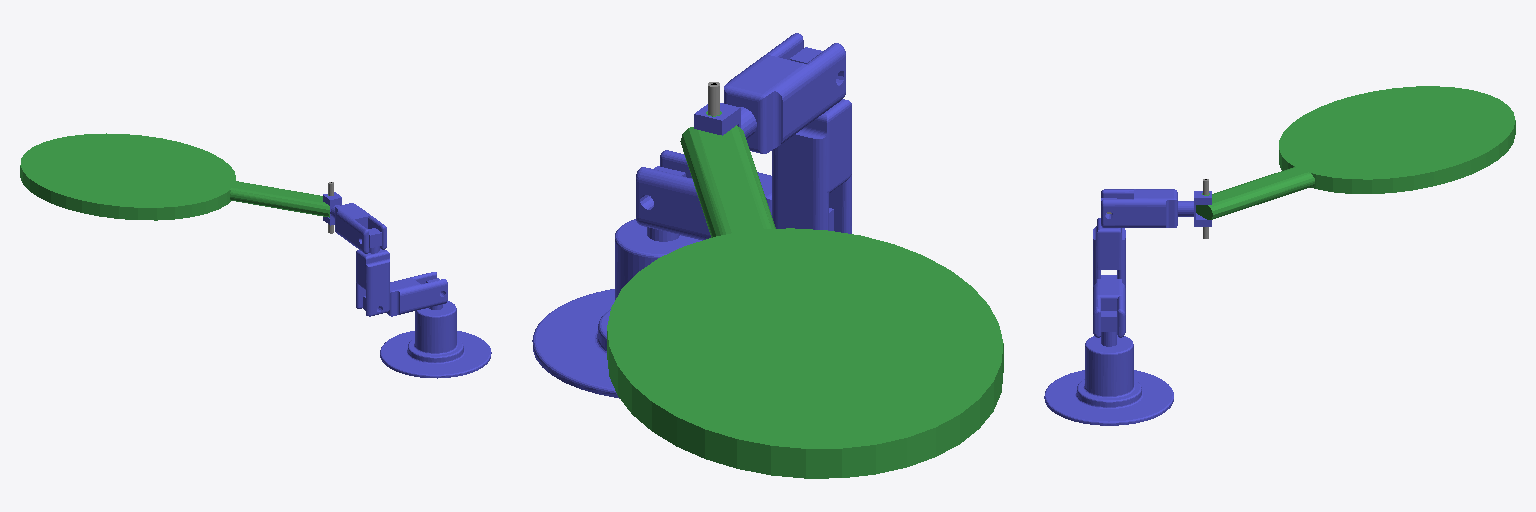
--- Facts derived from the render (not from the file) ---
The picture shows the robot from 3 angles, left to right: view 1: azimuth 30°, elevation 25°; view 2: azimuth 150°, elevation 25°; view 3: azimuth 270°, elevation 25°; orthographic projection.
Robot: eight_arm_quasistatic — 27 links, 26 joints (8 continuous, 18 fixed); root link world; default pose: all joints at 0.
Links seen in each view (by area): view 1: tennis_racket, base_link, second_link, first_link, third_link; view 2: tennis_racket, base_link, second_link, third_link, first_link, tennis_pin; view 3: tennis_racket, base_link, third_link, second_link, first_link, tennis_pin, base_pin.
Boxes of the visible links, x1,y1,x2,y2 form: tennis_racket: (20, 133, 329, 220); base_link: (380, 301, 491, 378); second_link: (356, 249, 389, 316); first_link: (387, 272, 447, 316); third_link: (335, 203, 386, 253); tennis_racket: (607, 111, 1003, 478); base_link: (532, 219, 701, 398); second_link: (772, 99, 851, 233); third_link: (724, 33, 845, 153); first_link: (636, 150, 771, 240); tennis_pin: (694, 103, 756, 138); tennis_racket: (1196, 86, 1515, 219); base_link: (1044, 335, 1173, 425); third_link: (1101, 189, 1177, 227); second_link: (1093, 218, 1125, 287); first_link: (1093, 279, 1125, 337); tennis_pin: (1178, 191, 1211, 226); base_pin: (1101, 311, 1116, 346).
Size in the robot's own frame: 0.6614 by 0.7378 by 0.3159 metres.
Meshes: 9 distinct files referenced, 9 mesh visuals loaded (9 binary STL).

robot.urdf — eight_arm_quasistatic:
<?xml version="1.0" encoding="utf-8"?>
<!-- This URDF was automatically created by SolidWorks to URDF Exporter! Originally created by Stephen Brawner ([email redacted])
     Commit Version: 1.6.0-4-g7f85cfe  Build Version: 1.6.7995.38578
     For more information, please see http://wiki.ros.org/sw_urdf_exporter -->
<robot
  name="eight_arm_quasistatic">


  <link name="world"/>

  <joint name="worldfixed" type="fixed">
    <parent link="world"/>
    <child  link="base_link"/>
    <origin xyz="0 0 0" rpy="0 0 0"/>
  </joint>

  <link
    name="base_link">
    <inertial>
      <origin
        xyz="7.01981621351124E-19 7.30091750501839E-18 0.0322476251952913"
        rpy="0 0 0" />
      <mass
        value="0.642659334578088" />
      <inertia
        ixx="0.00128323309798019"
        ixy="-5.79102308821978E-20"
        ixz="-1.24304284116364E-22"
        iyy="0.00128323309798019"
        iyz="9.24581334581879E-20"
        izz="0.0014380231118093" />
    </inertial>
    <visual>
      <origin
        xyz="0 0 0"
        rpy="0 0 0" />
      <geometry>
        <mesh
          filename="package://tennisbot/meshes/base_link.STL" />
      </geometry>
      <material
        name="">
        <color
          rgba="0.388235294117647 0.4 0.858823529411765 0.3" />
      </material>
    </visual>
    <collision>
      <origin
        xyz="0 0 0"
        rpy="0 0 0" />
      <geometry>
        <mesh
          filename="package://tennisbot/meshes/base_link.STL" />
      </geometry>
    </collision>
  </link>
  <link
    name="base_pin">
    <inertial>
      <origin
        xyz="-2.37440803027089E-15 0.0382952489796256 2.70140680659771E-16"
        rpy="0 0 0" />
      <mass
        value="0.0389102114458838" />
      <inertia
        ixx="2.07768422807742E-05"
        ixy="-6.89483633050152E-22"
        ixz="-8.37747101928375E-23"
        iyy="3.6324844996756E-06"
        iyz="2.21684945430942E-21"
        izz="2.09173954351496E-05" />
    </inertial>
    <visual>
      <origin
        xyz="0 0 0"
        rpy="0 0 0" />
      <geometry>
        <mesh
          filename="package://tennisbot/meshes/base_pin.STL" />
      </geometry>
      <material
        name="">
        <color
          rgba="0.388235294117647 0.4 0.858823529411765 0.3" />
      </material>
    </visual>
    <collision>
      <origin
        xyz="0 0 0"
        rpy="0 0 0" />
      <geometry>
        <mesh
          filename="package://tennisbot/meshes/base_pin.STL" />
      </geometry>
    </collision>
  </link>
  <joint
    name="theta1"
    type="continuous">
    <origin
      xyz="0 0 0.0698499999999998"
      rpy="1.5707963267949 0 0" />
    <parent
      link="base_link" />
    <child
      link="base_pin" />
    <axis
      xyz="0 1 0" />
  </joint>
  <link
    name="first_link">
    <inertial>
      <origin
        xyz="-4.08292269085367E-09 -0.0550901722119836 2.09780265891524E-05"
        rpy="0 0 0" />
      <mass
        value="0.209590237829908" />
      <inertia
        ixx="0.000233815998884336"
        ixy="-6.41201289500509E-11"
        ixz="1.39710741372473E-09"
        iyy="9.29557212780078E-05"
        iyz="-6.93854355170575E-08"
        izz="0.000240744791848488" />
    </inertial>
    <visual>
      <origin
        xyz="0 0 0"
        rpy="0 0 0" />
      <geometry>
        <mesh
          filename="package://tennisbot/meshes/first_link.STL" />
      </geometry>
      <material
        name="">
        <color
          rgba="0.388235294117647 0.4 0.858823529411765 0.3" />
      </material>
    </visual>
    <collision>
      <origin
        xyz="0 0 0"
        rpy="0 0 0" />
      <geometry>
        <mesh
          filename="package://tennisbot/meshes/first_link.STL" />
      </geometry>
    </collision>
  </link>
  <joint
    name="theta2"
    type="continuous">
    <origin
      xyz="0 0.0635 0"
      rpy="1.5707963267949 1.5707963267949 0" />
    <parent
      link="base_pin" />
    <child
      link="first_link" />
    <axis
      xyz="1 0 0" />
  </joint>
  <link
    name="first_pin">
    <inertial>
      <origin
        xyz="0.025545876062429 -2.28292906086932E-15 0"
        rpy="0 0 0" />
      <mass
        value="0.0260398414768073" />
      <inertia
        ixx="2.59455351351942E-06"
        ixy="1.39685737648696E-21"
        ixz="-1.42378986672845E-21"
        iyy="7.10750707409668E-06"
        iyz="-2.42852814127492E-22"
        izz="6.96695391972137E-06" />
    </inertial>
    <visual>
      <origin
        xyz="0 0 0"
        rpy="0 0 0" />
      <geometry>
        <mesh
          filename="package://tennisbot/meshes/first_pin.STL" />
      </geometry>
      <material
        name="">
        <color
          rgba="0.388235294117647 0.4 0.858823529411765 0.3" />
      </material>
    </visual>
    <collision>
      <origin
        xyz="0 0 0"
        rpy="0 0 0" />
      <geometry>
        <mesh
          filename="package://tennisbot/meshes/first_pin.STL" />
      </geometry>
    </collision>
  </link>
  <joint
    name="theta3"
    type="continuous">
    <origin
      xyz="0 -0.094412 0"
      rpy="0 0 -1.5708" />
    <parent
      link="first_link" />
    <child
      link="first_pin" />
    <axis
      xyz="1 0 0" />
  </joint>
  <link
    name="second_link">
    <inertial>
      <origin
        xyz="-4.08292010696858E-09 -0.0550901722119811 2.09780265891801E-05"
        rpy="0 0 0" />
      <mass
        value="0.209590237829908" />
      <inertia
        ixx="0.000233815998884336"
        ixy="-6.41201288853313E-11"
        ixz="1.39710741373865E-09"
        iyy="9.29557212780078E-05"
        iyz="-6.93854355169687E-08"
        izz="0.000240744791848488" />
    </inertial>
    <visual>
      <origin
        xyz="0 0 0"
        rpy="0 0 0" />
      <geometry>
        <mesh
          filename="package://tennisbot/meshes/second_link.STL" />
      </geometry>
      <material
        name="">
        <color
          rgba="0.388235294117647 0.4 0.858823529411765 0.3" />
      </material>
    </visual>
    <collision>
      <origin
        xyz="0 0 0"
        rpy="0 0 0" />
      <geometry>
        <mesh
          filename="package://tennisbot/meshes/second_link.STL" />
      </geometry>
    </collision>
  </link>
  <joint
    name="theta4"
    type="continuous">
    <origin
      xyz="0.0380999999999999 0 0"
      rpy="1.5707963267949 0 -1.5707963267949" />
    <parent
      link="first_pin" />
    <child
      link="second_link" />
    <axis
      xyz="1 0 0" />
  </joint>
  <link
    name="second_pin">
    <inertial>
      <origin
        xyz="0.025545876062429 0 -2.33354162788721E-15"
        rpy="0 0 0" />
      <mass
        value="0.0260398414768073" />
      <inertia
        ixx="2.59455351351943E-06"
        ixy="1.0021604189718E-21"
        ixz="-2.85175925370698E-22"
        iyy="7.10750707409667E-06"
        iyz="5.83761034000549E-23"
        izz="6.96695391972135E-06" />
    </inertial>
    <visual>
      <origin
        xyz="0 0 0"
        rpy="0 0 0" />
      <geometry>
        <mesh
          filename="package://tennisbot/meshes/second_pin.STL" />
      </geometry>
      <material
        name="">
        <color
          rgba="0.388235294117647 0.4 0.858823529411765 0.3" />
      </material>
    </visual>
    <collision>
      <origin
        xyz="0 0 0"
        rpy="0 0 0" />
      <geometry>
        <mesh
          filename="package://tennisbot/meshes/second_pin.STL" />
      </geometry>
    </collision>
  </link>
  <joint
    name="theta5"
    type="continuous">
    <origin
      xyz="0 -0.094412 0"
      rpy="1.5708 0 -1.5708" />
    <parent
      link="second_link" />
    <child
      link="second_pin" />
    <axis
      xyz="1 0 0" />
  </joint>
  <link
    name="third_link">
    <inertial>
      <origin
        xyz="-4.0829E-09 0.05509 -2.0978E-05"
        rpy="0 0 0" />
      <mass
        value="0.20959" />
      <inertia
        ixx="0.00023382"
        ixy="6.412E-11"
        ixz="-1.3971E-09"
        iyy="9.2956E-05"
        iyz="-6.9385E-08"
        izz="0.00024074" />
    </inertial>
    <visual>
      <origin
        xyz="0 0 0"
        rpy="0 0 0" />
      <geometry>
        <mesh
          filename="package://tennisbot/meshes/third_link.STL" />
      </geometry>
      <material
        name="">
        <color
          rgba="0.38824 0.4 0.85882 0.3" />
      </material>
    </visual>
    <collision>
      <origin
        xyz="0 0 0"
        rpy="0 0 0" />
      <geometry>
        <mesh
          filename="package://tennisbot/meshes/third_link.STL" />
      </geometry>
    </collision>
  </link>
  <joint
    name="theta6"
    type="continuous">
    <origin
      xyz="0.0381 0 0"
      rpy="1.5707963267949 0 -1.5707963267949" />
    <parent
      link="second_pin" />
    <child
      link="third_link" />
    <axis
      xyz="1 0 0" />
  </joint>
  <link
    name="tennis_pin">
    <inertial>
      <origin
        xyz="0 0.033201 -2.7756E-17"
        rpy="0 0 0" />
      <mass
        value="0.035752" />
      <inertia
        ixx="1.378E-05"
        ixy="1.1705E-21"
        ixz="6.5644E-22"
        iyy="8.2428E-06"
        iyz="3.6051E-21"
        izz="1.8417E-05" />
    </inertial>
    <visual>
      <origin
        xyz="0 0 0"
        rpy="0 0 0" />
      <geometry>
        <mesh
          filename="package://tennisbot/meshes/tennis_pin.STL" />
      </geometry>
      <material
        name="">
        <color
          rgba="0.38824 0.4 0.85882 0.3" />
      </material>
    </visual>
    <collision>
      <origin
        xyz="0 0 0"
        rpy="0 0 0" />
      <geometry>
        <mesh
          filename="package://tennisbot/meshes/tennis_pin.STL" />
      </geometry>
    </collision>
  </link>
  <joint
    name="theta7"
    type="continuous">
    <origin
      xyz="0 0.094412 0"
      rpy="0 1.5708 0" />
    <parent
      link="third_link" />
    <child
      link="tennis_pin" />
    <axis
      xyz="0 1 0" />
  </joint>
  <link
    name="tennis_racket">
    <inertial>
      <origin
        xyz="0.366359357987308 -1.49720355002714E-08 0.0155192883141906"
        rpy="0 0 0" />
      <mass
        value="2.70157890421177" />
      <inertia
        ixx="0.0145954644076415"
        ixy="-9.92588746263243E-09"
        ixz="-0.00108274864307061"
        iyy="0.059825373112049"
        iyz="-1.62234246216851E-09"
        izz="0.0455197680924056" />
    </inertial>
    <visual>
      <origin
        xyz="0 0 0"
        rpy="0 0 0" />
      <geometry>
        <mesh
          filename="package://tennisbot/meshes/tennis_racket.STL" />
      </geometry>
      <material
        name="">
        <color
          rgba="0.286274509803922 0.662745098039216 0.329411764705882 1" />
      </material>
    </visual>
    <collision>
      <origin
        xyz="0 0 0"
        rpy="0 0 0" />
      <geometry>
        <mesh
          filename="package://tennisbot/meshes/tennis_racket.STL" />
      </geometry>
    </collision>
  </link>
  <joint
    name="theta8"
    type="continuous">
    <origin
      xyz="0 0.0571499999999999 0"
      rpy="0 -0.661454620295037 1.5707963267949" />
    <parent
      link="tennis_pin" />
    <child
      link="tennis_racket" />
    <axis
      xyz="0 1 0" />
  </joint>

  <joint name="final" type="fixed">
    <parent link="tennis_racket"/>
    <child  link="tip"/>
    <origin xyz="0.4 0.02 0" rpy="0 0 0"/>
  </joint>

  <link name="tip"/>

<!-- *************************************************** -->
<!-- ******************* RVIZ Colors ******************* -->
<!-- *************************************************** -->

<material name="white">    <color rgba="1.00 1.00 1.00 1"/>  </material>
<material name="gray">     <color rgba="0.60 0.60 0.60 1"/>  </material>
<material name="table">    <color rgba="0.85 0.77 0.77 1"/>  </material>
<material name="black">    <color rgba="0.00 0.00 0.00 1"/>  </material>

<material name="red">      <color rgba="1.00 0.00 0.00 1"/>  </material>
<material name="green">    <color rgba="0.00 1.00 0.00 1"/>  </material>
<material name="blue">     <color rgba="0.00 0.00 1.00 1"/>  </material>

<material name="cyan">     <color rgba="0.00 1.00 1.00 1"/>  </material>
<material name="magenta">  <color rgba="1.00 0.00 1.00 1"/>  </material>
<material name="yellow">   <color rgba="1.00 1.00 0.00 1"/>  </material>

<material name="orange">   <color rgba="1.00 0.65 0.00 1"/>  </material>

    <!-- *************************************************** -->
  <!-- ****** Building Blocks (Visual AND Inertial) ****** -->
  <!-- *************************************************** -->

  <!-- *** World-Fixed: Mount 1, Motor 1 *** -->

  <joint name="attach-mount1" type="fixed">
    <parent link="base_link"/>
    <child  link="mount1"/>
  </joint>
  <link name="mount1">
    <visual>
      <origin xyz="0 0 0.0698499999999998" rpy="0 0 0"/>
      <geometry>
	<cylinder length="0.02" radius="0.002"/>
      </geometry>
      <material name="black"/>
    </visual>
    <inertial>
      <origin xyz="0 0 0.0698499999999998" rpy="0 0 0"/>
      <mass value="0.2"/>
      <inertia
        ixx="0.000687" ixy="0.0" ixz="0.0"
        iyy="0.000687" iyz="0.0"
        izz="0.000040"/>
    </inertial>
  </link>

  <joint name="attach-motor1" type="fixed">
    <parent link="base_link"/>
    <child  link="motor1"/>
  </joint>
  <link name="motor1">
    <visual>
      <origin xyz="0 0 0.0698499999999998" rpy="0 0 0"/>
      <geometry>
	<cylinder length="0.02" radius="0.005"/>
      </geometry>
      <material name="gray"/>
    </visual>
    <inertial>
      <origin xyz="0 0 0.0698499999999998" rpy="0 0 0"/>
      <mass value="2.0"/>
      <inertia
        ixx="0.007917" ixy="0.0" ixz="0.0"
        iyy="0.007917" iyz="0.0"
        izz="0.002500"/>
    </inertial>
  </link>

  <!-- *** Mount 2, Motor 2 *** -->

  <joint name="attach-mount2" type="fixed">
    <parent link="base_pin"/>
    <child  link="mount2"/>
  </joint>
  <link name="mount2">
    <visual>
      <origin xyz="0 0.0635 0" rpy="0 0 1.5708"/>
      <geometry>
	<cylinder length="0.02" radius="0.002"/>
      </geometry>
      <material name="black"/>
    </visual>
    <inertial>
      <origin xyz="0 0.0635 0" rpy="0 0 1.5708"/>
      <mass value="0.2"/>
      <inertia
        ixx="0.000687" ixy="0.0" ixz="0.0"
        iyy="0.000687" iyz="0.0"
        izz="0.000040"/>
    </inertial>
  </link>

  <joint name="attach-motor2" type="fixed">
    <parent link="base_pin"/>
    <child  link="motor2"/>
  </joint>
  <link name="motor2">
    <visual>
      <origin xyz="0 0.0635 0" rpy="0 0 1.5708"/>
      <geometry>
	<cylinder length="0.02" radius="0.005"/>
      </geometry>
      <material name="gray"/>
    </visual>
    <inertial>
      <origin xyz="0 0.0635 0" rpy="0 0 1.5708"/>
      <mass value="2.0"/>
      <inertia
        ixx="0.007917" ixy="0.0" ixz="0.0"
        iyy="0.007917" iyz="0.0"
        izz="0.002500"/>
    </inertial>
  </link>

    <!-- *** Mount 3, Motor 3 *** -->

  <joint name="attach-mount3" type="fixed">
    <parent link="first_link"/>
    <child  link="mount3"/>
  </joint>
  <link name="mount3">
    <visual>
      <origin xyz="0 -0.094412 0" rpy="1.5708 0 0"/>
      <geometry>
	<cylinder length="0.02" radius="0.002"/>
      </geometry>
      <material name="black"/>
    </visual>
    <inertial>
      <origin xyz="0 -0.094412 0" rpy="1.5708 0 0"/>
      <mass value="0.2"/>
      <inertia
        ixx="0.000687" ixy="0.0" ixz="0.0"
        iyy="0.000687" iyz="0.0"
        izz="0.000040"/>
    </inertial>
  </link>

  <joint name="attach-motor3" type="fixed">
    <parent link="first_link"/>
    <child  link="motor3"/>
  </joint>
  <link name="motor3">
    <visual>
      <origin xyz="0 -0.094412 0" rpy="1.5708 0 0"/>
      <geometry>
	<cylinder length="0.02" radius="0.005"/>
      </geometry>
      <material name="gray"/>
    </visual>
    <inertial>
      <origin xyz="0 -0.094412 0" rpy="1.5708 0 0"/>
      <mass value="2.0"/>
      <inertia
        ixx="0.007917" ixy="0.0" ixz="0.0"
        iyy="0.007917" iyz="0.0"
        izz="0.002500"/>
    </inertial>
  </link>

<!-- *** Mount 4, Motor 4 *** -->

  <joint name="attach-mount4" type="fixed">
    <parent link="first_pin"/>
    <child  link="mount4"/>
  </joint>
  <link name="mount4">
    <visual>
      <origin xyz="0.0380999999999999 0 0" rpy="1.5708 0 0"/>
      <geometry>
	<cylinder length="0.02" radius="0.002"/>
      </geometry>
      <material name="black"/>
    </visual>
    <inertial>
      <origin xyz="0.0380999999999999 0 0" rpy="1.5708 0 0"/>
      <mass value="0.2"/>
      <inertia
        ixx="0.000687" ixy="0.0" ixz="0.0"
        iyy="0.000687" iyz="0.0"
        izz="0.000040"/>
    </inertial>
  </link>

  <joint name="attach-motor4" type="fixed">
    <parent link="first_pin"/>
    <child  link="motor4"/>
  </joint>
  <link name="motor4">
    <visual>
      <origin xyz="0.0380999999999999 0 0" rpy="1.5708 0 0"/>
      <geometry>
	<cylinder length="0.02" radius="0.005"/>
      </geometry>
      <material name="gray"/>
    </visual>
    <inertial>
      <origin xyz="0.0380999999999999 0 0" rpy="1.5708 0 0"/>
      <mass value="2.0"/>
      <inertia
        ixx="0.007917" ixy="0.0" ixz="0.0"
        iyy="0.007917" iyz="0.0"
        izz="0.002500"/>
    </inertial>
  </link>

  <!-- *** Mount 5, Motor 5 *** -->

  <joint name="attach-mount5" type="fixed">
    <parent link="second_link"/>
    <child  link="mount5"/>
  </joint>
  <link name="mount5">
    <visual>
      <origin xyz="0 -0.094412 0" rpy="1.5708 0 0"/>
      <geometry>
	<cylinder length="0.02" radius="0.002"/>
      </geometry>
      <material name="black"/>
    </visual>
    <inertial>
      <origin xyz="0 -0.094412 0" rpy="1.5708 0 0"/>
      <mass value="0.2"/>
      <inertia
        ixx="0.000687" ixy="0.0" ixz="0.0"
        iyy="0.000687" iyz="0.0"
        izz="0.000040"/>
    </inertial>
  </link>

  <joint name="attach-motor5" type="fixed">
    <parent link="second_link"/>
    <child  link="motor5"/>
  </joint>
  <link name="motor5">
    <visual>
      <origin xyz="0 -0.094412 0" rpy="1.5708 0 0"/>
      <geometry>
	<cylinder length="0.02" radius="0.005"/>
      </geometry>
      <material name="gray"/>
    </visual>
    <inertial>
      <origin xyz="0 -0.094412 0" rpy="1.5708 0 0"/>
      <mass value="2.0"/>
      <inertia
        ixx="0.007917" ixy="0.0" ixz="0.0"
        iyy="0.007917" iyz="0.0"
        izz="0.002500"/>
    </inertial>
  </link>

    <!-- *** Mount 6, Motor 6 *** -->

  <joint name="attach-mount6" type="fixed">
    <parent link="second_pin"/>
    <child  link="mount6"/>
  </joint>
  <link name="mount6">
    <visual>
      <origin xyz="0.0381 0 0" rpy="1.5708 0 0"/>
      <geometry>
	<cylinder length="0.02" radius="0.002"/>
      </geometry>
      <material name="black"/>
    </visual>
    <inertial>
      <origin xyz="0.0381 0 0" rpy="1.5708 0 0"/>
      <mass value="0.2"/>
      <inertia
        ixx="0.000687" ixy="0.0" ixz="0.0"
        iyy="0.000687" iyz="0.0"
        izz="0.000040"/>
    </inertial>
  </link>

  <joint name="attach-motor6" type="fixed">
    <parent link="second_pin"/>
    <child  link="motor6"/>
  </joint>
  <link name="motor6">
    <visual>
      <origin xyz="0.0381 0 0" rpy="1.5708 0 0"/>
      <geometry>
	<cylinder length="0.02" radius="0.005"/>
      </geometry>
      <material name="gray"/>
    </visual>
    <inertial>
      <origin xyz="0.0381 0 0" rpy="1.5708 0 0"/>
      <mass value="2.0"/>
      <inertia
        ixx="0.007917" ixy="0.0" ixz="0.0"
        iyy="0.007917" iyz="0.0"
        izz="0.002500"/>
    </inertial>
  </link>

<!-- *** Mount 7, Motor 7 *** -->

  <joint name="attach-mount7" type="fixed">
    <parent link="third_link"/>
    <child  link="mount7"/>
  </joint>
  <link name="mount7">
    <visual>
      <origin xyz="0 0.094412 0" rpy="1.5708 0 0"/>
      <geometry>
	<cylinder length="0.02" radius="0.002"/>
      </geometry>
      <material name="black"/>
    </visual>
    <inertial>
      <origin xyz="0 0.094412 0" rpy="1.5708 0 0"/>
      <mass value="0.2"/>
      <inertia
        ixx="0.000687" ixy="0.0" ixz="0.0"
        iyy="0.000687" iyz="0.0"
        izz="0.000040"/>
    </inertial>
  </link>

  <joint name="attach-motor7" type="fixed">
    <parent link="third_link"/>
    <child  link="motor7"/>
  </joint>
  <link name="motor7">
    <visual>
      <origin xyz="0 0.094412 0" rpy="1.5708 0 0"/>
      <geometry>
	<cylinder length="0.02" radius="0.005"/>
      </geometry>
      <material name="gray"/>
    </visual>
    <inertial>
      <origin xyz="0 0.094412 0" rpy="1.5708 0 0"/>
      <mass value="2.0"/>
      <inertia
        ixx="0.007917" ixy="0.0" ixz="0.0"
        iyy="0.007917" iyz="0.0"
        izz="0.002500"/>
    </inertial>
  </link>

  <!-- *** Mount 8, Motor 8 *** -->

  <joint name="attach-mount8" type="fixed">
    <parent link="tennis_pin"/>
    <child  link="mount8"/>
  </joint>
  <link name="mount8">
    <visual>
      <origin xyz="0 0.0571499999999999 0" rpy="0 1.5708 0"/>
      <geometry>
	<cylinder length="0.1" radius="0.002"/>
      </geometry>
      <material name="black"/>
    </visual>
    <inertial>
      <origin xyz="0 0.0571499999999999 0" rpy="0 1.5708 0"/>
      <mass value="0.2"/>
      <inertia
        ixx="0.000687" ixy="0.0" ixz="0.0"
        iyy="0.000687" iyz="0.0"
        izz="0.000040"/>
    </inertial>
  </link>

  <joint name="attach-motor8" type="fixed">
    <parent link="tennis_pin"/>
    <child  link="motor8"/>
  </joint>
  <link name="motor8">
    <visual>
      <origin xyz="0 0.0571499999999999 0" rpy="0 1.5708 0"/>
      <geometry>
	<cylinder length="0.1" radius="0.005"/>
      </geometry>
      <material name="gray"/>
    </visual>
    <inertial>
      <origin xyz="0 0.0571499999999999 0" rpy="0 1.5708 0"/>
      <mass value="2.0"/>
      <inertia
        ixx="0.007917" ixy="0.0" ixz="0.0"
        iyy="0.007917" iyz="0.0"
        izz="0.002500"/>
    </inertial>
  </link>

    <!-- *************************************************** -->
  <!-- ******************* Gazebo Colors ***************** -->
  <!-- *************************************************** -->

  <gazebo reference="motor1"> <material>Gazebo/Gray</material>  </gazebo>
  <gazebo reference="motor2"> <material>Gazebo/Gray</material>  </gazebo>
  <gazebo reference="motor3"> <material>Gazebo/Gray</material>  </gazebo>
  <gazebo reference="motor4"> <material>Gazebo/Gray</material>  </gazebo>
  <gazebo reference="motor5"> <material>Gazebo/Gray</material>  </gazebo>
  <gazebo reference="motor6"> <material>Gazebo/Gray</material>  </gazebo>
  <gazebo reference="motor7"> <material>Gazebo/Gray</material>  </gazebo>

  <gazebo reference="mount1">   <material>Gazebo/Black</material> </gazebo>
  <gazebo reference="mount2">   <material>Gazebo/Black</material> </gazebo>
  <gazebo reference="mount3">   <material>Gazebo/Black</material> </gazebo>
  <gazebo reference="mount4">   <material>Gazebo/Black</material> </gazebo>
  <gazebo reference="mount5">   <material>Gazebo/Black</material> </gazebo>
  <gazebo reference="mount6">   <material>Gazebo/Black</material> </gazebo>

    <!-- *************************************************** -->
  <!-- ************** Gazebo Transmissions *************** -->
  <!-- *************************************************** -->

  <transmission name="trans1">
    <type>transmission_interface/SimpleTransmission</type>
    <joint name="theta1">
      <hardwareInterface>hardware_interface/PositionJointInterface</hardwareInterface>
    </joint>
    <actuator name="motor1">
      <mechanicalReduction>1</mechanicalReduction>
      <hardwareInterface>hardware_interface/PositionJointInterface</hardwareInterface>
    </actuator>
  </transmission>

  <transmission name="trans2">
    <type>transmission_interface/SimpleTransmission</type>
    <joint name="theta2">
      <hardwareInterface>hardware_interface/PositionJointInterface</hardwareInterface>
    </joint>
    <actuator name="motor2">
      <mechanicalReduction>1</mechanicalReduction>
      <hardwareInterface>hardware_interface/PositionJointInterface</hardwareInterface>
    </actuator>
  </transmission>

  <transmission name="trans3">
    <type>transmission_interface/SimpleTransmission</type>
    <joint name="theta3">
      <hardwareInterface>hardware_interface/PositionJointInterface</hardwareInterface>
    </joint>
    <actuator name="motor3">
      <mechanicalReduction>1</mechanicalReduction>
      <hardwareInterface>hardware_interface/PositionJointInterface</hardwareInterface>
    </actuator>
  </transmission>

  <transmission name="trans4">
    <type>transmission_interface/SimpleTransmission</type>
    <joint name="theta4">
      <hardwareInterface>hardware_interface/PositionJointInterface</hardwareInterface>
    </joint>
    <actuator name="motor4">
      <mechanicalReduction>1</mechanicalReduction>
      <hardwareInterface>hardware_interface/PositionJointInterface</hardwareInterface>
    </actuator>
  </transmission>

  <transmission name="trans5">
    <type>transmission_interface/SimpleTransmission</type>
    <joint name="theta5">
      <hardwareInterface>hardware_interface/PositionJointInterface</hardwareInterface>
    </joint>
    <actuator name="motor5">
      <mechanicalReduction>1</mechanicalReduction>
      <hardwareInterface>hardware_interface/PositionJointInterface</hardwareInterface>
    </actuator>
  </transmission>

  <transmission name="trans6">
    <type>transmission_interface/SimpleTransmission</type>
    <joint name="theta6">
      <hardwareInterface>hardware_interface/PositionJointInterface</hardwareInterface>
    </joint>
    <actuator name="motor6">
      <mechanicalReduction>1</mechanicalReduction>
      <hardwareInterface>hardware_interface/PositionJointInterface</hardwareInterface>
    </actuator>
  </transmission>

  <transmission name="trans7">
    <type>transmission_interface/SimpleTransmission</type>
    <joint name="theta7">
      <hardwareInterface>hardware_interface/PositionJointInterface</hardwareInterface>
    </joint>
    <actuator name="motor7">
      <mechanicalReduction>1</mechanicalReduction>
      <hardwareInterface>hardware_interface/PositionJointInterface</hardwareInterface>
    </actuator>
  </transmission>

<transmission name="trans8">
    <type>transmission_interface/SimpleTransmission</type>
    <joint name="theta8">
      <hardwareInterface>hardware_interface/PositionJointInterface</hardwareInterface>
    </joint>
    <actuator name="motor8">
      <mechanicalReduction>1</mechanicalReduction>
      <hardwareInterface>hardware_interface/PositionJointInterface</hardwareInterface>
    </actuator>
</transmission>


  <!-- *************************************************** -->
  <!-- *************** Gazebo Controllers **************** -->
  <!-- *************************************************** -->

  <gazebo>
    <plugin name="gazebo_ros_control" filename="libgazebo_ros_control.so">
      <robotNamespace>/eight_arm_quasistatic</robotNamespace>
      <robotSimType>gazebo_ros_control/DefaultRobotHWSim</robotSimType>
    </plugin>
  </gazebo>

</robot>
